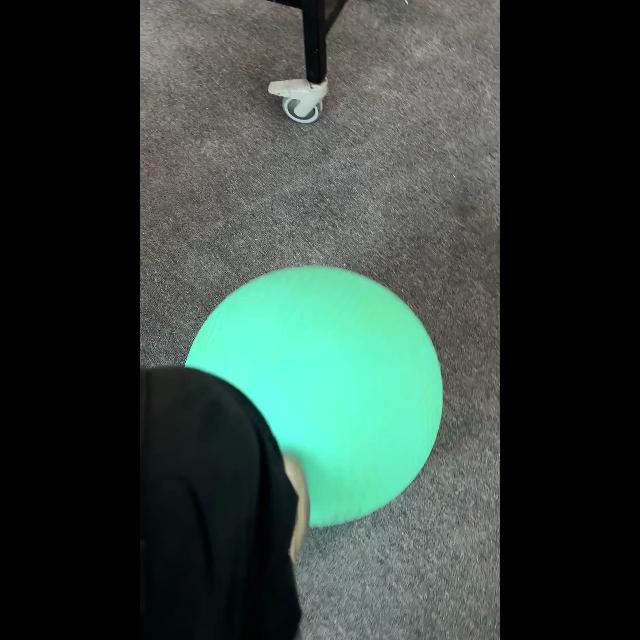ALGAE: (184, 265, 444, 529)
